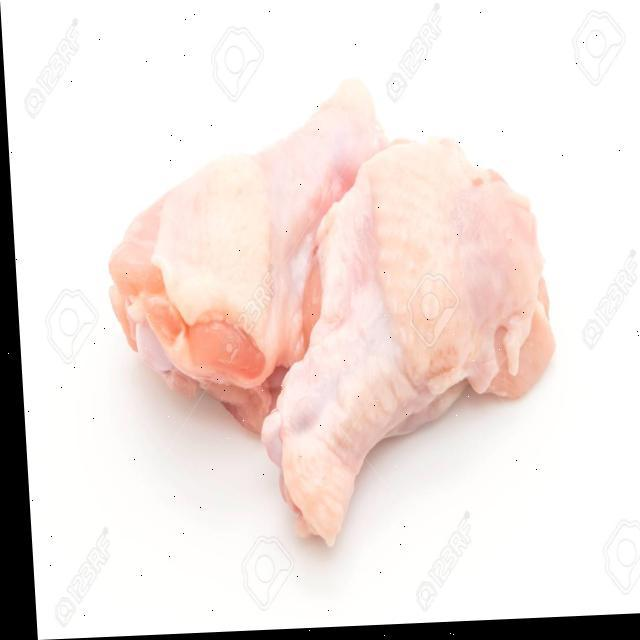leg: (269, 158, 548, 545), (90, 84, 393, 433)
